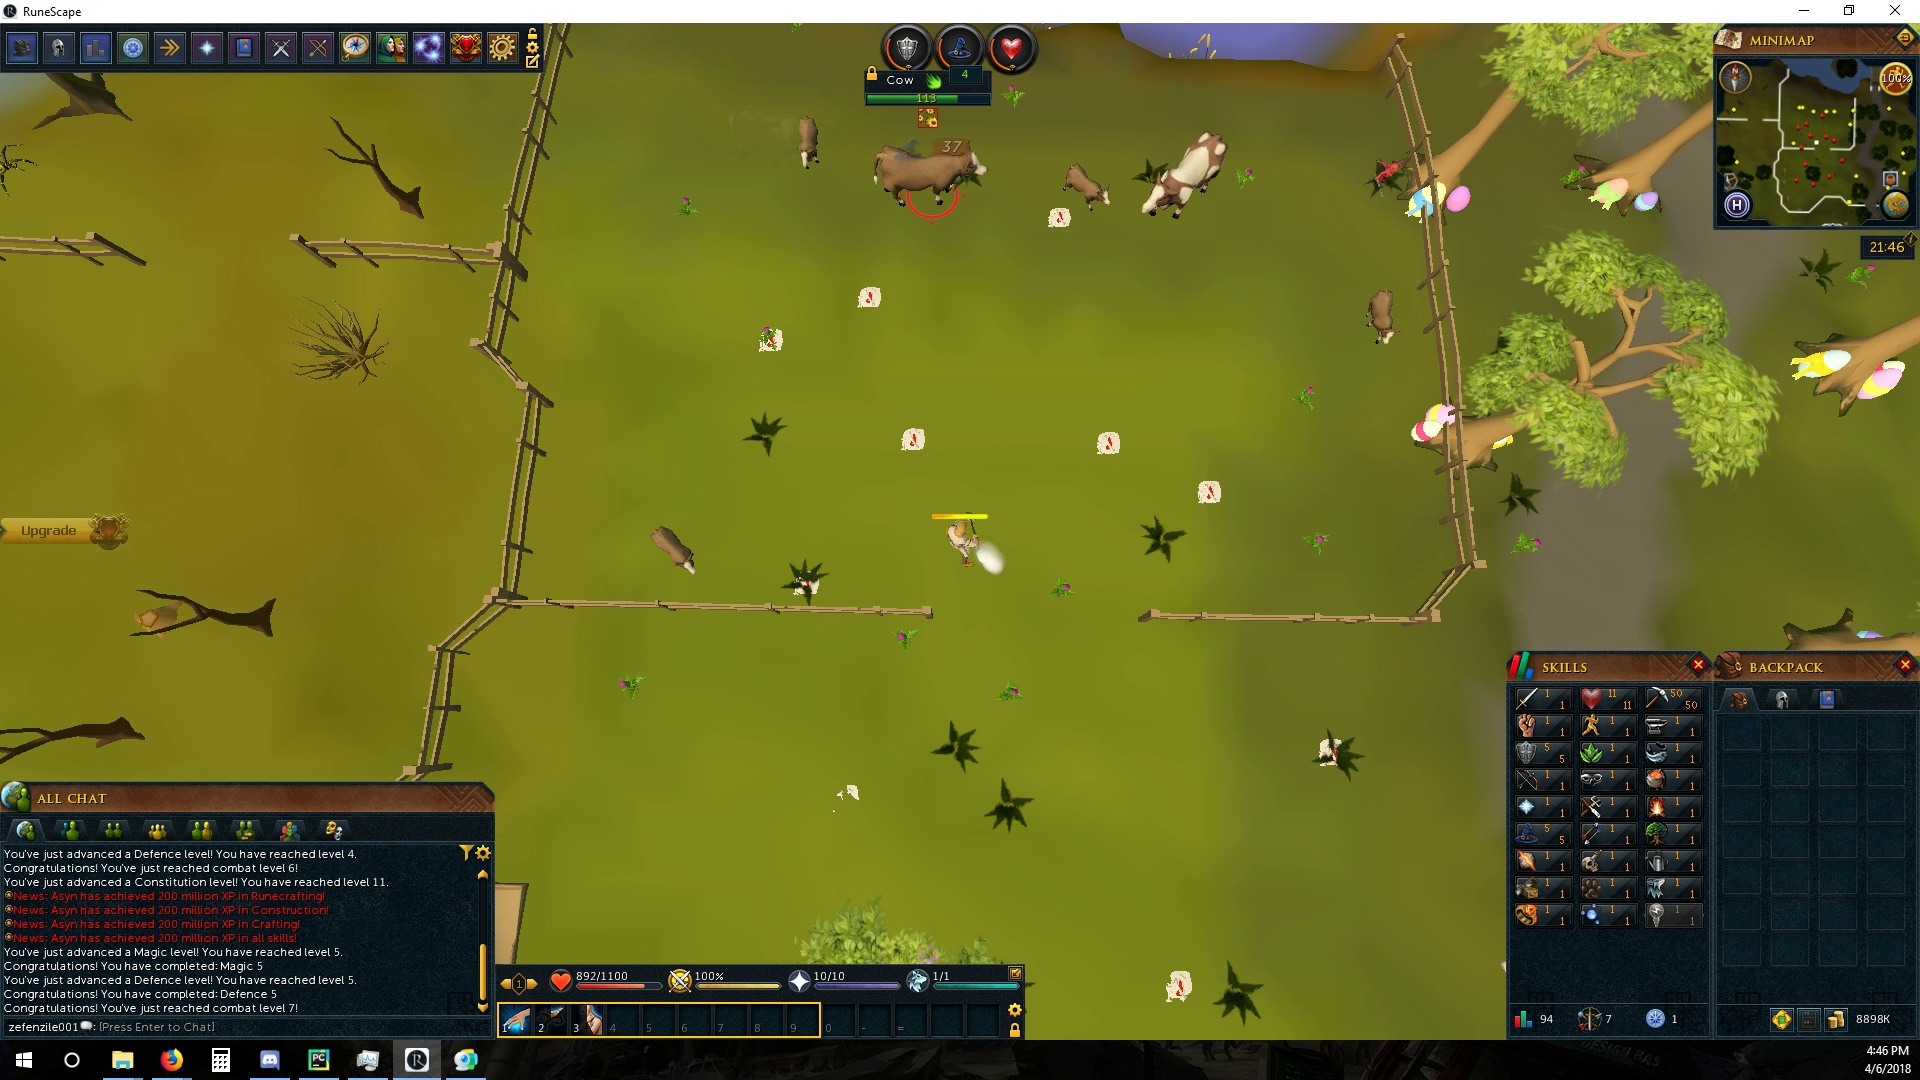calf: (647, 521, 702, 580), (1062, 161, 1117, 218), (1364, 289, 1400, 349), (794, 112, 818, 171)
cow: (1137, 129, 1232, 222), (869, 145, 992, 215)
cow_drop: (1163, 967, 1196, 1006), (1191, 477, 1226, 510), (1315, 736, 1346, 770), (1092, 429, 1124, 459), (897, 421, 924, 452), (1048, 204, 1080, 232), (754, 326, 785, 353), (856, 282, 882, 311)
